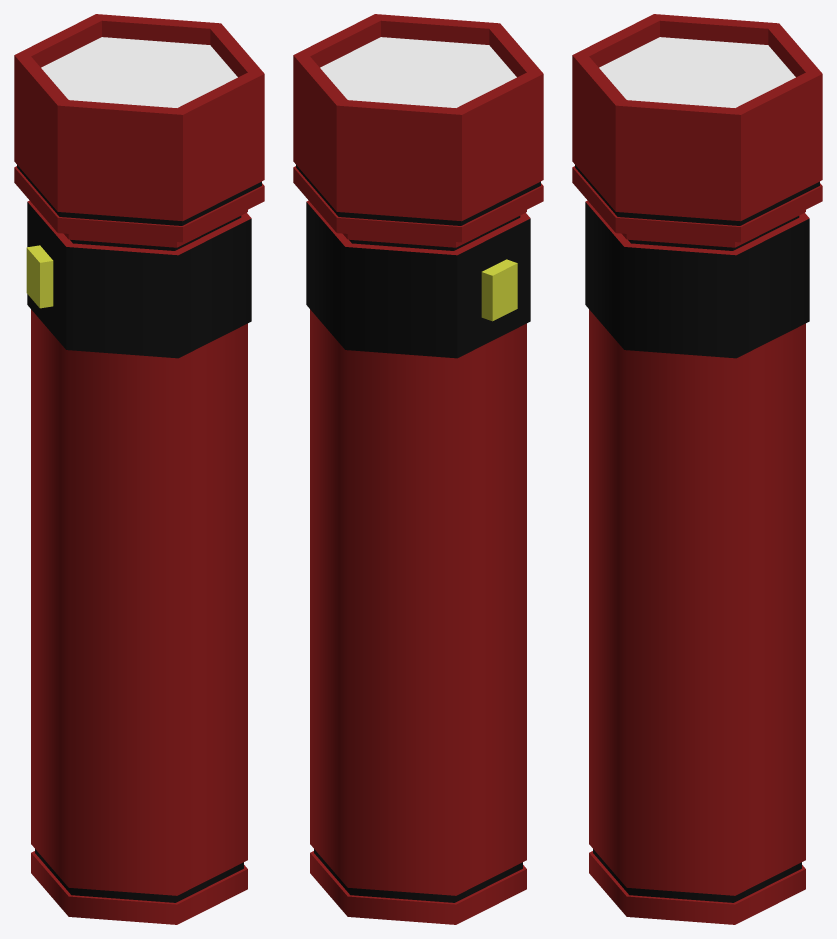
File: Flash Light.FBX
3 renders of one model, left to right at view 1: azimuth 30°, elevation 25°; view 2: azimuth 150°, elevation 25°; view 3: azimuth 270°, elevation 25°, orthographic.
Parts seen in each view (by area): view 1: Cylinder001; view 2: Cylinder001; view 3: Cylinder001.
Boxes of the visible parts, x1,y1,x2,y2 form: Cylinder001: [14, 14, 264, 924]; Cylinder001: [293, 14, 543, 924]; Cylinder001: [572, 14, 822, 924].
Size of the model in its own units: 19.29 by 72.76 by 20.21.
